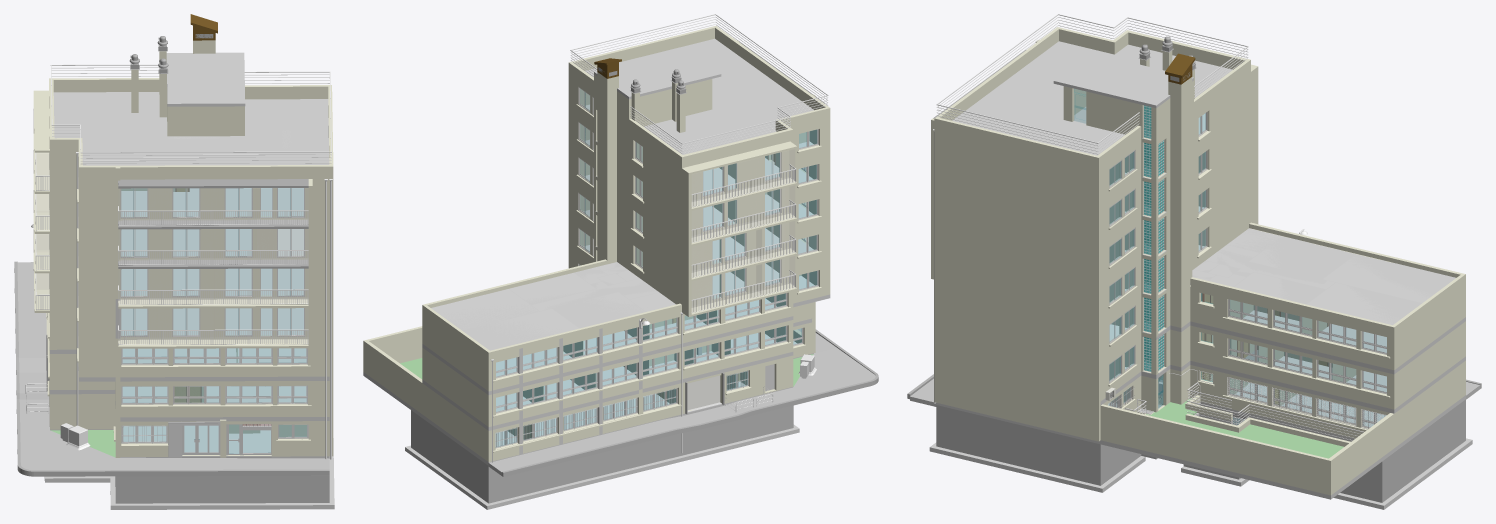
3 renders of one model, left to right at view 1: azimuth 30°, elevation 25°; view 2: azimuth 150°, elevation 25°; view 3: azimuth 270°, elevation 25°, orthographic. The views are drawn at different scales.
Parts seen in each view (by area): view 1: 2bFMCFmkj1kfWO5Lvqt__E, 1zCZNx5CT1i8Y9$_dU9fMm, 0dWoULYUH3zPg8qJ$TnRTP, 0dWoULYUH3zPg8qJhTnRTP, 0dWoULYUH3zPg8qJpTnRTP, 0dWoULYUH3zPg8qJtTnRTP, 0dWoULYUH3zPg8sJxTnRgm, 313IdYHbv0JwPbnB6B727$, 0dWoULYUH3zPg8qJlTnRTP, 0JJqPutQD7fgEmZfe5WIOV, 0dWoULYUH3zPg8qJZTnRTP, 04Zj82bz96WhfKErdD6QSF (+103 smaller); view 2: 1IQJpSU49DlPKPMYhdab44, 2bFMCFmkj1kfWO5Lvqt__E, 1T2hYTZj1EsBZaf4hQmbXu, 3RLTfSMBXE_BWgA7WbvgjJ, 04Zj82bz96WhfKErdD6QSF, 1T2hYTZj1EsBZaf4hQmbWV, 0JJqPutQD7fgEmZfe5WIOV, 313IdYHbv0JwPbnB6B727$, 2QdDmV0TrDCeyB2Uhxt6rB, 0dWoULYUH3zPg8sJxTnRUj, 0JJqPutQD7fgEmZfq5WIOV, 0dWoULYUH3zPg8sJxTnRg0 (+76 smaller); view 3: 1IQJpSU49DlPKPMYhdab44, 2bFMCFmkj1kfWO5Lvqt__E, 3RLTfSMBXE_BWgA7Wbvgs$, 1zCZNx5CT1i8Y9$_dU9fLy, 321EIHH0v8KOO2s9NjdAGp, 321EIHH0v8KOO2s9RjdAGp, 321EIHH0v8KOO2s93jdAGp, 321EIHH0v8KOO2s97jdAGp, 321EIHH0v8KOO2s9JjdAGp, 321EIHH0v8KOO2s9FjdAGp, 321EIHH0v8KOO2s9BjdAGp, 3RLTfSMBXE_BWgA7WbvgjJ (+50 smaller).
Boxes of the visible parts, box(x1,y1,x2,y2) form: 2bFMCFmkj1kfWO5Lvqt__E: box(53, 92, 329, 165); 1zCZNx5CT1i8Y9$_dU9fMm: box(115, 476, 325, 503); 0dWoULYUH3zPg8qJ$TnRTP: box(83, 337, 329, 377); 0dWoULYUH3zPg8qJhTnRTP: box(83, 218, 329, 258); 0dWoULYUH3zPg8qJpTnRTP: box(83, 297, 329, 337); 0dWoULYUH3zPg8qJtTnRTP: box(83, 258, 329, 298); 0dWoULYUH3zPg8sJxTnRgm: box(120, 381, 329, 417); 313IdYHbv0JwPbnB6B727$: box(166, 52, 245, 106); 0dWoULYUH3zPg8qJlTnRTP: box(83, 179, 329, 219); 0JJqPutQD7fgEmZfe5WIOV: box(19, 399, 115, 470); 0dWoULYUH3zPg8qJZTnRTP: box(83, 165, 329, 179); 04Zj82bz96WhfKErdD6QSF: box(50, 64, 331, 164); 1IQJpSU49DlPKPMYhdab44: box(431, 262, 675, 350); 2bFMCFmkj1kfWO5Lvqt__E: box(585, 38, 813, 154); 1T2hYTZj1EsBZaf4hQmbXu: box(491, 405, 793, 502); 3RLTfSMBXE_BWgA7WbvgjJ: box(365, 341, 486, 460); 04Zj82bz96WhfKErdD6QSF: box(570, 14, 828, 153); 1T2hYTZj1EsBZaf4hQmbWV: box(411, 410, 491, 503); 0JJqPutQD7fgEmZfe5WIOV: box(738, 348, 875, 410); 313IdYHbv0JwPbnB6B727$: box(594, 49, 721, 99); 2QdDmV0TrDCeyB2Uhxt6rB: box(642, 282, 790, 353); 0dWoULYUH3zPg8sJxTnRUj: box(422, 309, 486, 389); 0JJqPutQD7fgEmZfq5WIOV: box(488, 420, 674, 475); 0dWoULYUH3zPg8sJxTnRg0: box(422, 348, 486, 425); 1IQJpSU49DlPKPMYhdab44: box(1190, 228, 1455, 325); 2bFMCFmkj1kfWO5Lvqt__E: box(952, 41, 1232, 155); 3RLTfSMBXE_BWgA7Wbvgs$: box(1100, 404, 1332, 495); 1zCZNx5CT1i8Y9$_dU9fLy: box(936, 405, 1102, 485); 321EIHH0v8KOO2s9NjdAGp: box(934, 324, 1100, 402); 321EIHH0v8KOO2s9RjdAGp: box(934, 363, 1100, 441); 321EIHH0v8KOO2s93jdAGp: box(934, 130, 1100, 208); 321EIHH0v8KOO2s97jdAGp: box(934, 169, 1100, 247); 321EIHH0v8KOO2s9JjdAGp: box(934, 285, 1100, 363); 321EIHH0v8KOO2s9FjdAGp: box(934, 246, 1100, 324); 321EIHH0v8KOO2s9BjdAGp: box(934, 208, 1100, 285); 3RLTfSMBXE_BWgA7WbvgjJ: box(1329, 362, 1463, 493).
Bounding box in the file's own units: 32.78 × 28.19 × 37.66.
